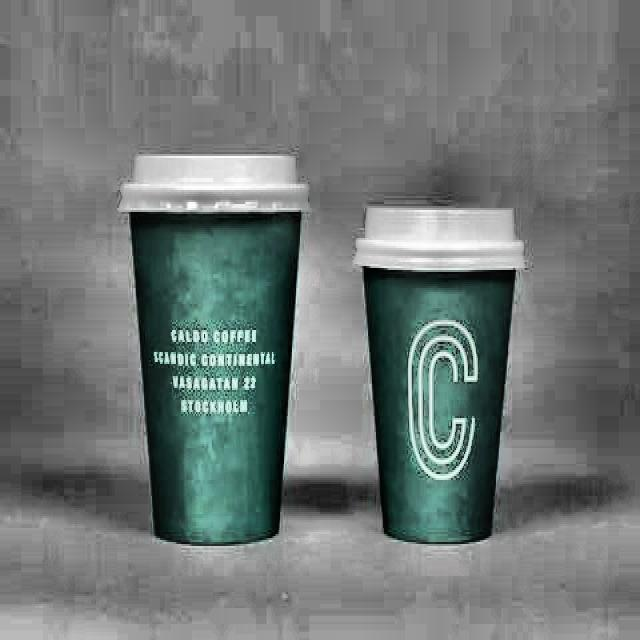Cup: (114, 164, 324, 560), (349, 225, 539, 598)
